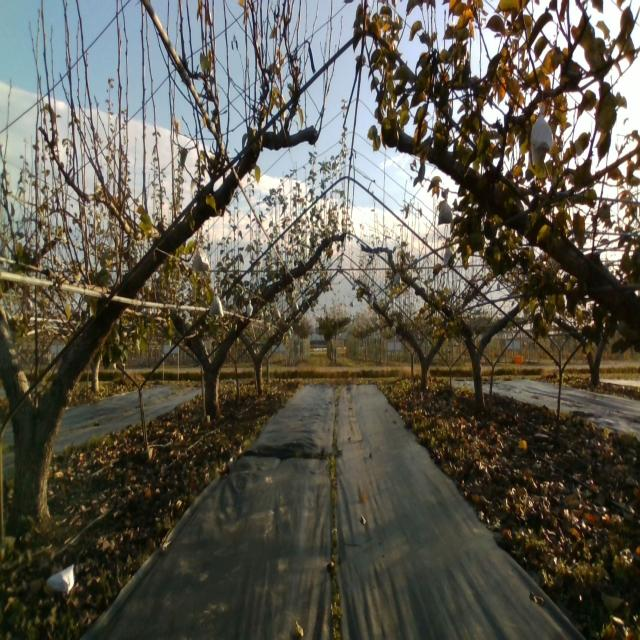pearbags: (530, 102, 553, 166), (192, 246, 211, 274), (437, 195, 453, 225), (209, 287, 224, 317), (443, 248, 454, 266)
